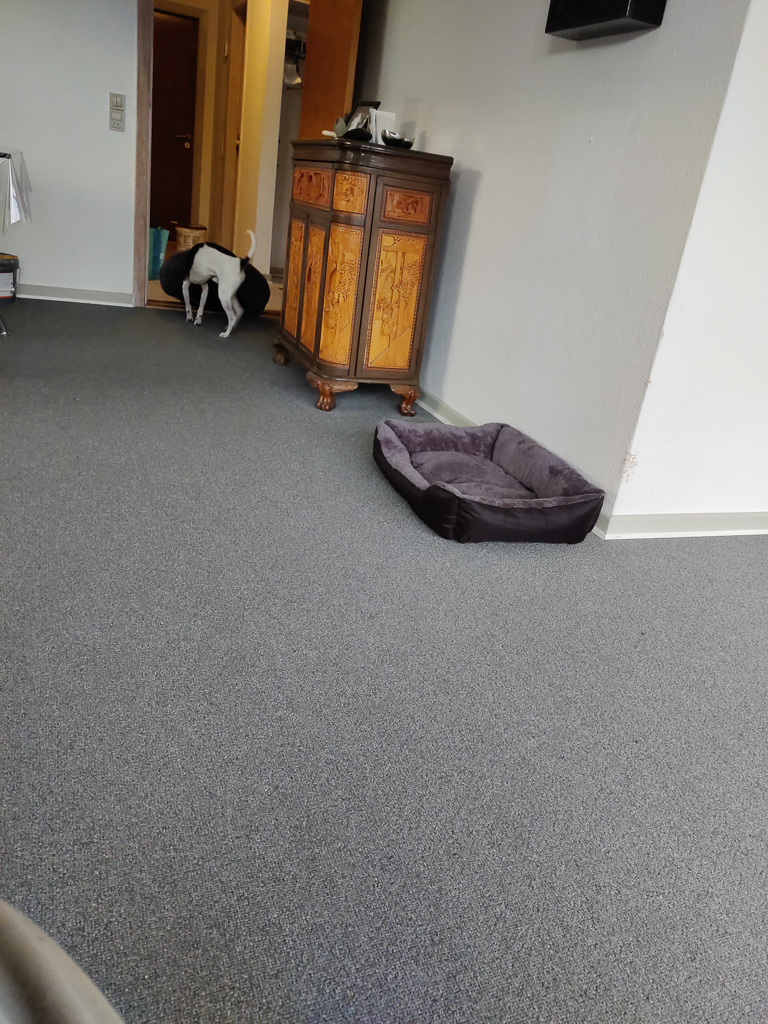Dog: (170, 222, 264, 345)
Humanoid: (0, 864, 156, 1024)
